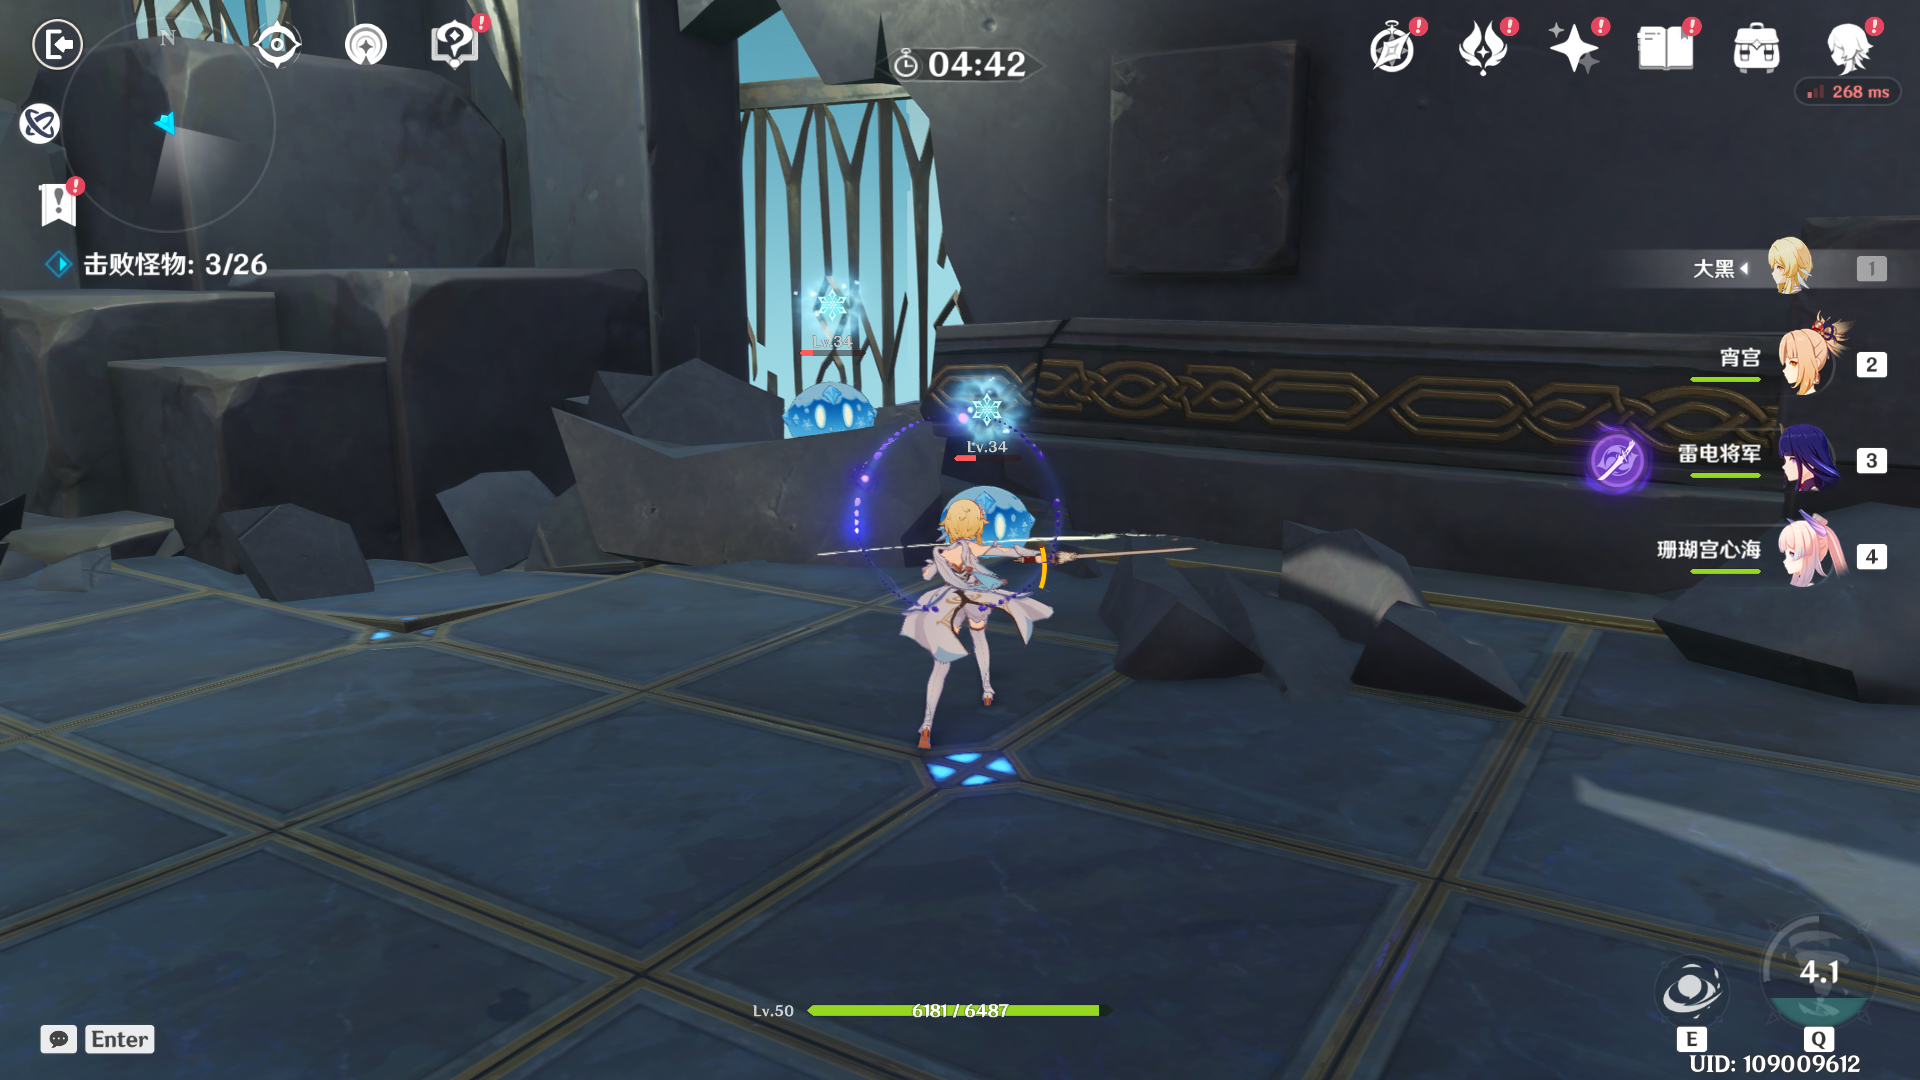character: (880, 463, 1087, 774)
slime: (926, 471, 1051, 567), (771, 377, 877, 456)
